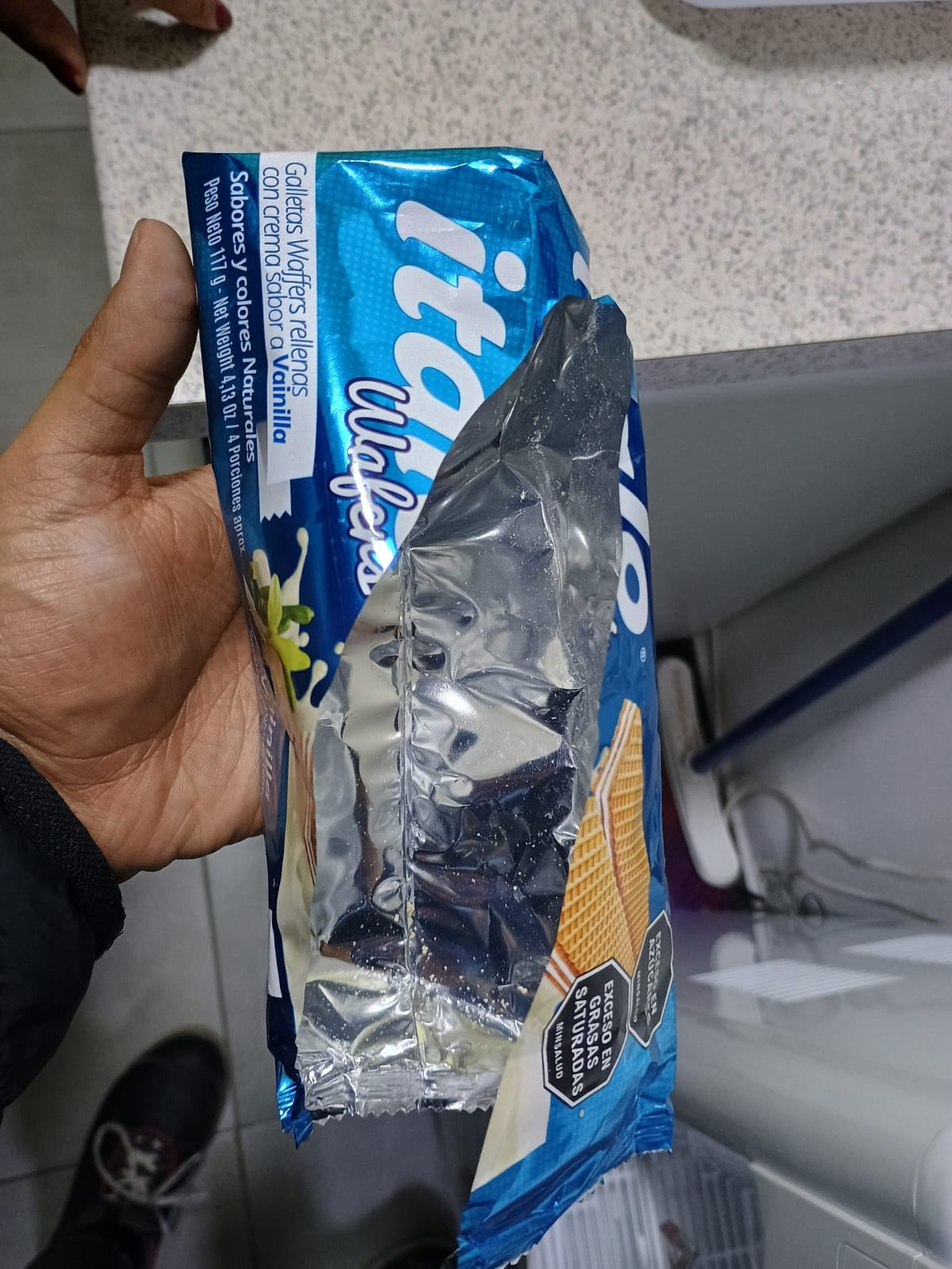Ordinario: (182, 147, 674, 1269)
